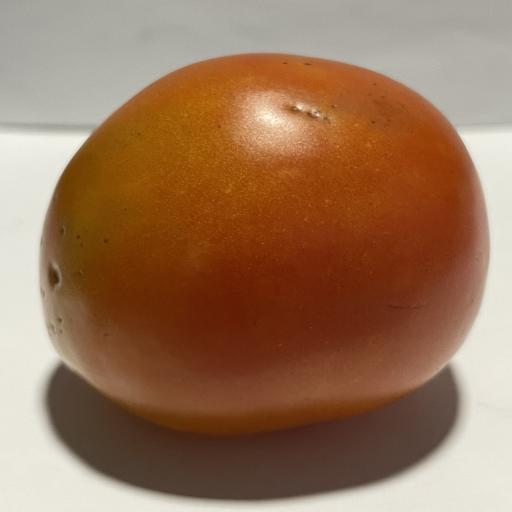ripe: (40, 54, 489, 434)
